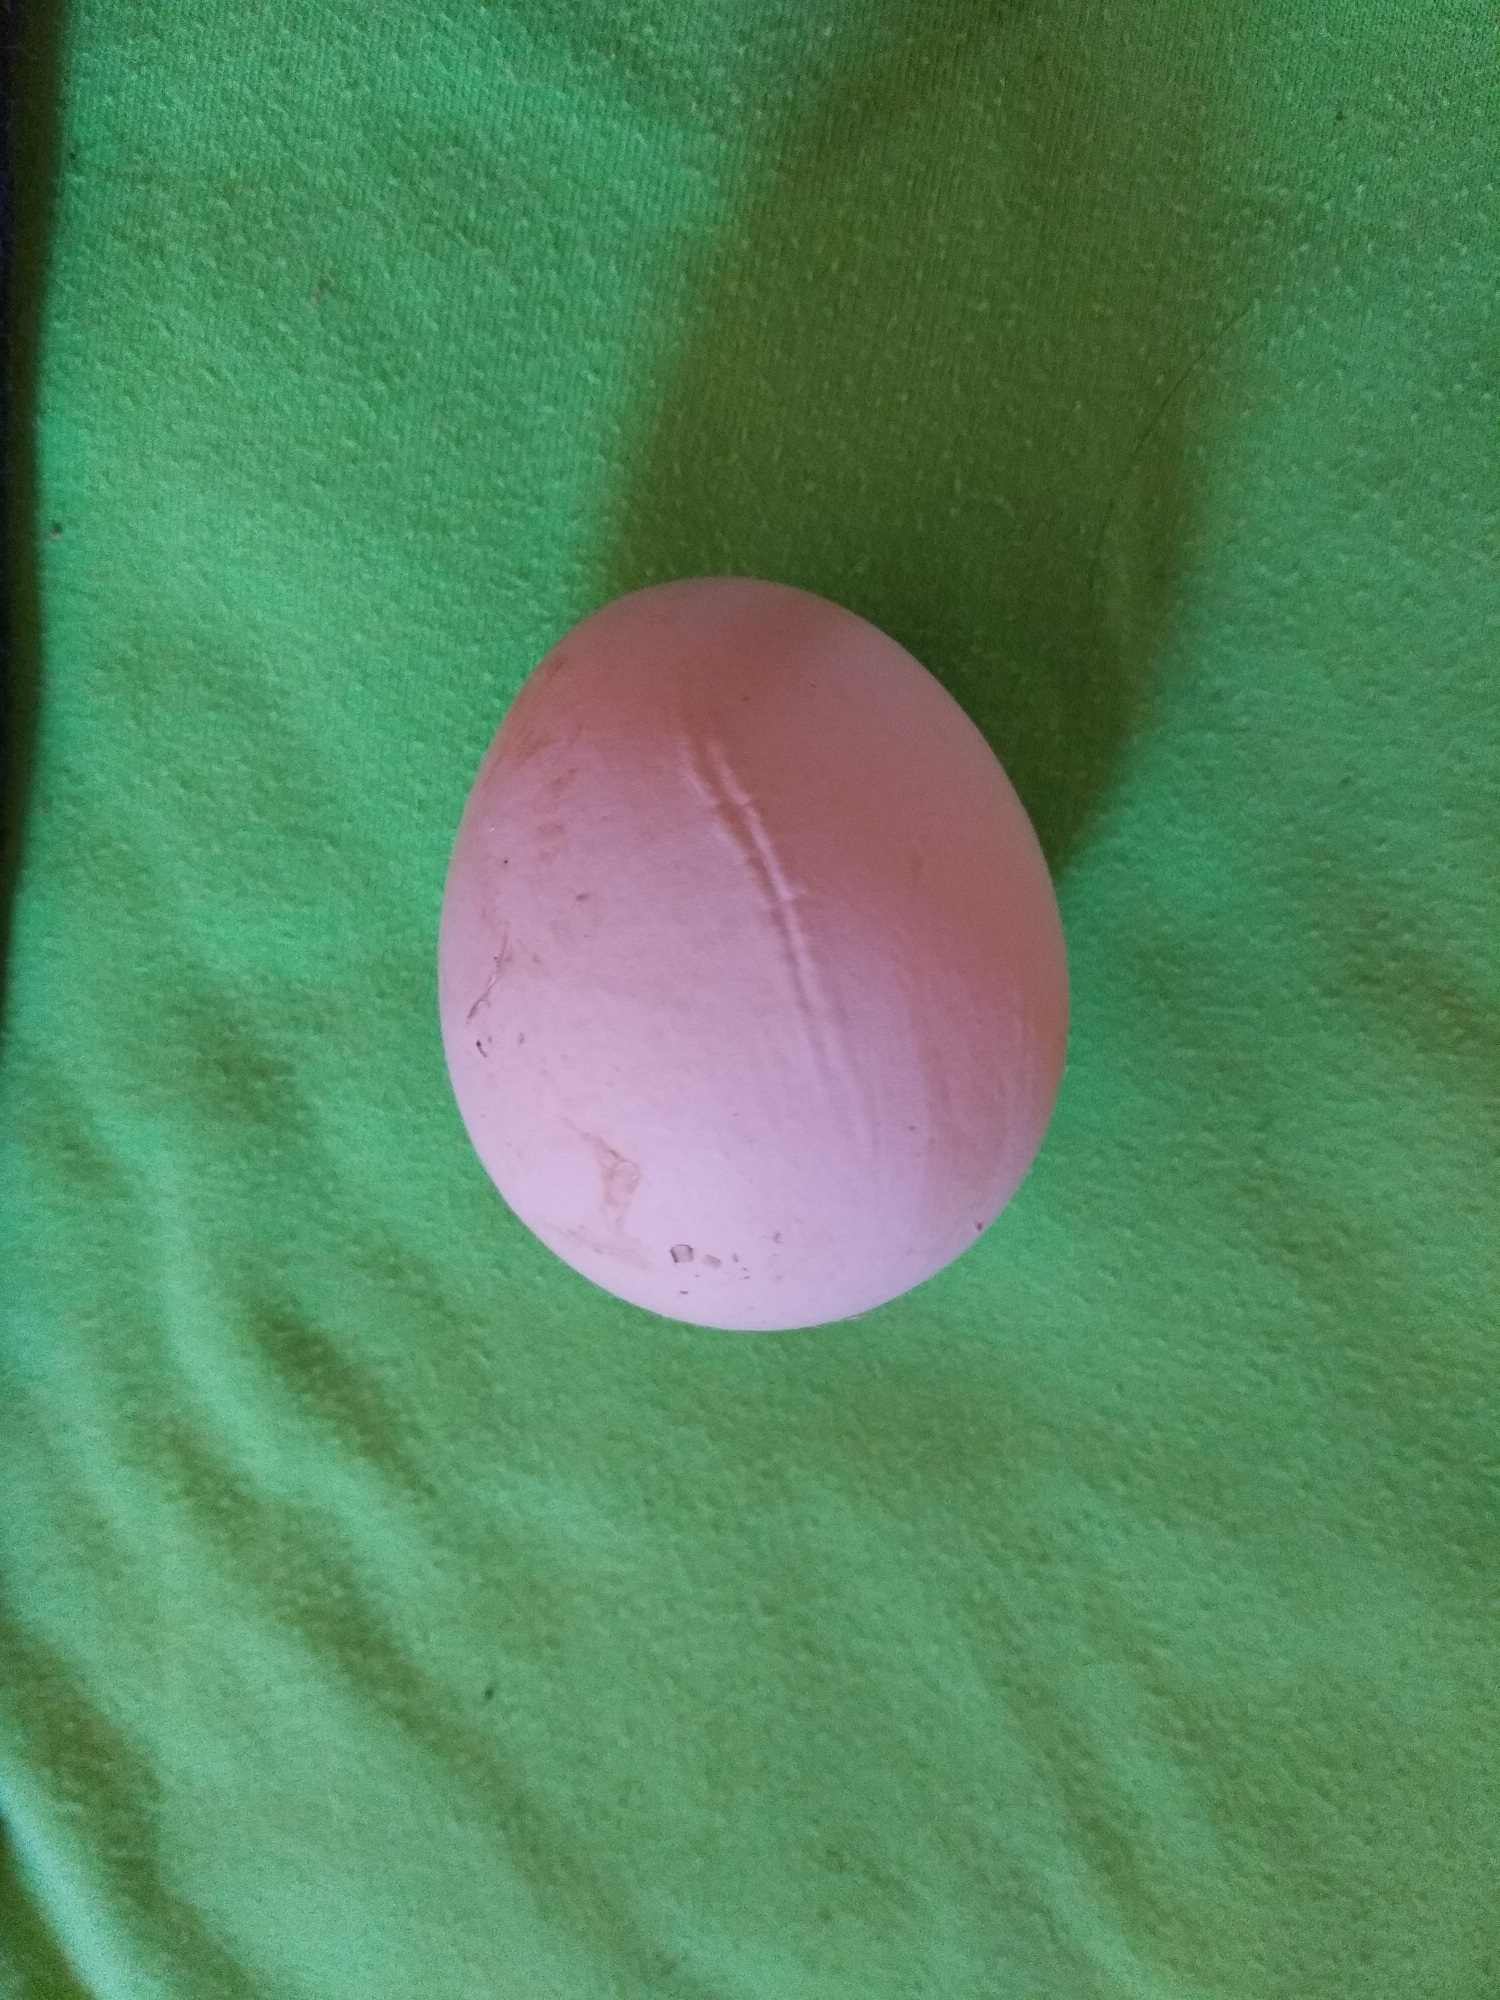Female: (432, 573, 1075, 1334)
